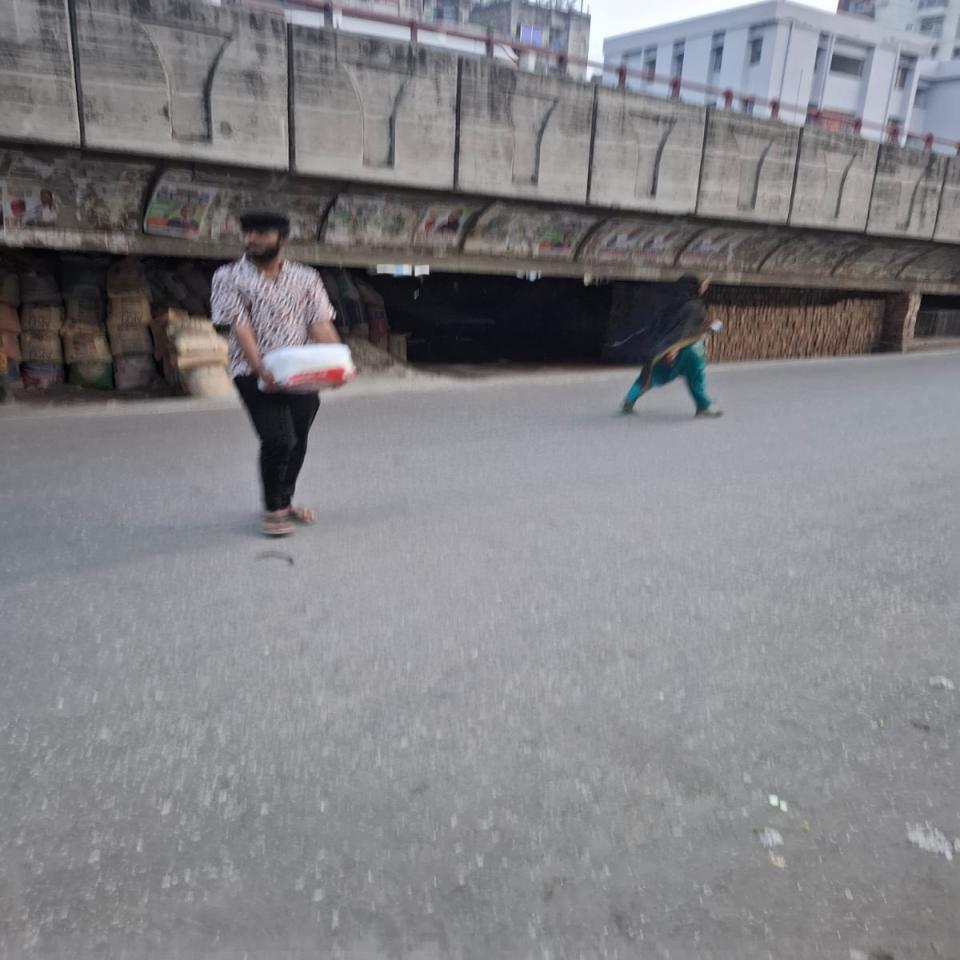person: (210, 211, 341, 537), (614, 273, 722, 419)
